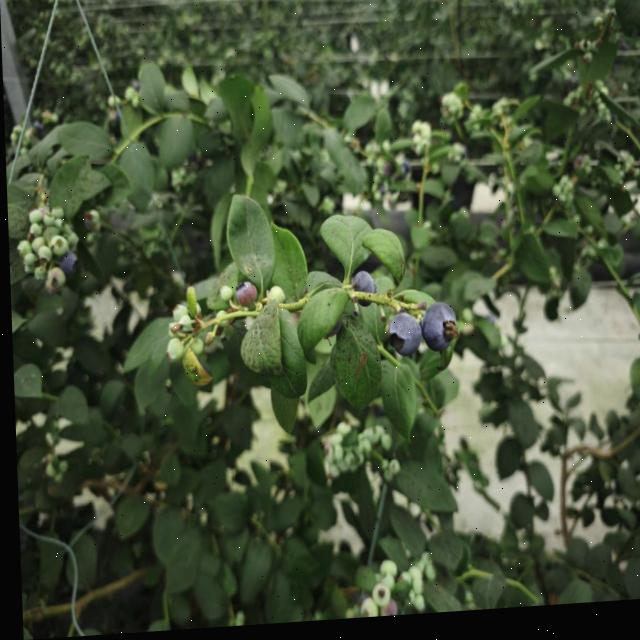RipeBlueBerry: (417, 306, 457, 361), (382, 316, 420, 365)
Semi-RipeBlueBerry: (232, 283, 255, 311)
